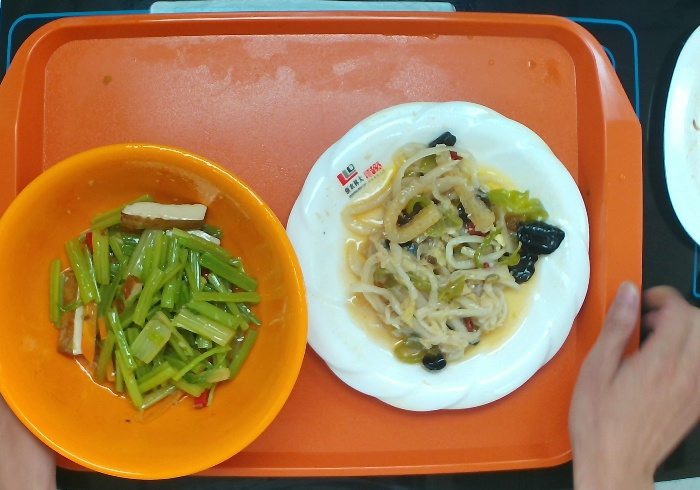ZNLD-Hua_Bian_Wan: (289, 102, 589, 416)
ZNLD-Ju_Se_Tang_Wan: (5, 142, 309, 479)
